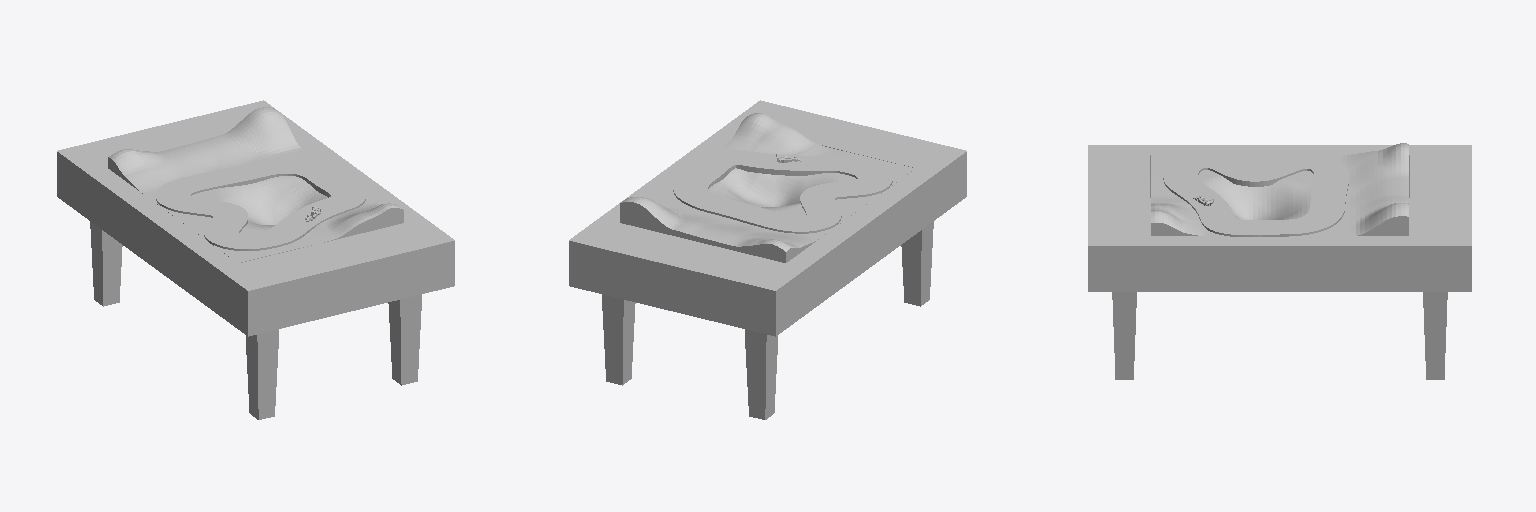
Rendered from NewestTisch43.obj.
The picture shows the model from 3 angles: view 1: azimuth 30°, elevation 25°; view 2: azimuth 150°, elevation 25°; view 3: azimuth 270°, elevation 25°; orthographic projection.
Parts seen in each view (by area): view 1: Tischplatte_wood_table_001, Landschaft_aerial_grass_rock, off, Bein1_wood_table_001, Bein4_wood_table_001.003, Bein3_wood_table_001.002; view 2: Tischplatte_wood_table_001, Landschaft_aerial_grass_rock, off, Bein2_wood_table_001.001, Bein3_wood_table_001.002, Bein4_wood_table_001.003; view 3: Tischplatte_wood_table_001, Landschaft_aerial_grass_rock, off, Bein1_wood_table_001, Bein2_wood_table_001.001.
Part boxes in pixels (left/top/right/bottom): Tischplatte_wood_table_001: left=57, top=100, right=454, bottom=336; Landschaft_aerial_grass_rock: left=108, top=107, right=403, bottom=262; off: left=156, top=159, right=365, bottom=250; Bein1_wood_table_001: left=388, top=294, right=421, bottom=385; Bein4_wood_table_001.003: left=246, top=329, right=278, bottom=419; Bein3_wood_table_001.002: left=90, top=221, right=122, bottom=306; Tischplatte_wood_table_001: left=569, top=100, right=966, bottom=336; Landschaft_aerial_grass_rock: left=620, top=113, right=915, bottom=262; off: left=673, top=150, right=892, bottom=233; Bein2_wood_table_001.001: left=602, top=294, right=635, bottom=385; Bein3_wood_table_001.002: left=745, top=329, right=777, bottom=419; Bein4_wood_table_001.003: left=901, top=221, right=933, bottom=306; Tischplatte_wood_table_001: left=1088, top=145, right=1471, bottom=291; Landschaft_aerial_grass_rock: left=1151, top=143, right=1408, bottom=235; off: left=1163, top=153, right=1348, bottom=236; Bein1_wood_table_001: left=1112, top=292, right=1136, bottom=379; Bein2_wood_table_001.001: left=1423, top=292, right=1447, bottom=379.
Bounding box in the file's own units: 5 × 3.91 × 8.